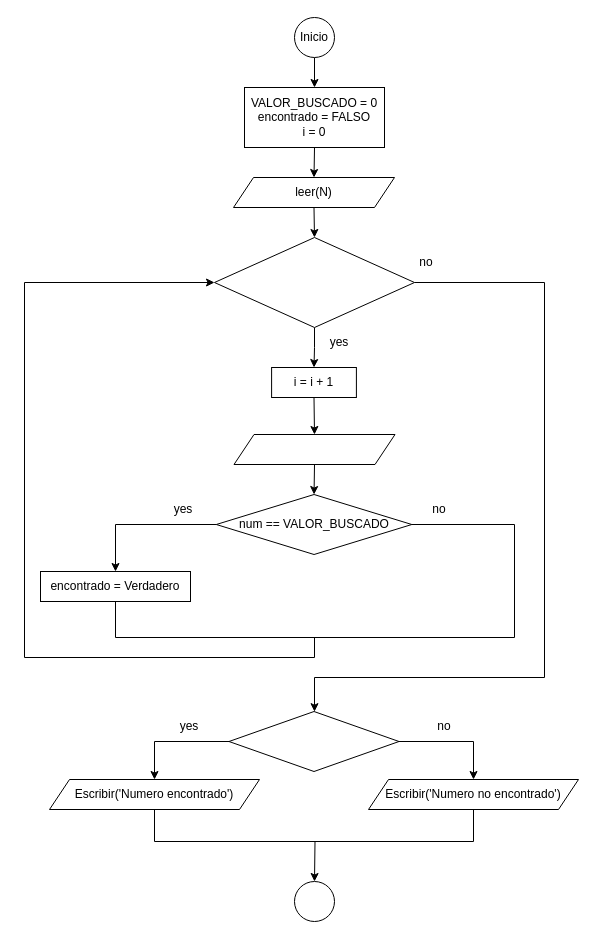
Image size: 596x939. Some labels were removed from this diagram. Here are the shapes that lost their labels. From the top down, the box of each, then its label:
(214, 236, 414, 328): (i < N) and (encontrado == FALSO)
(233, 434, 395, 464): Leer(num)
(228, 710, 399, 772): encontrado == Verdadero
(294, 880, 334, 922): Fin
